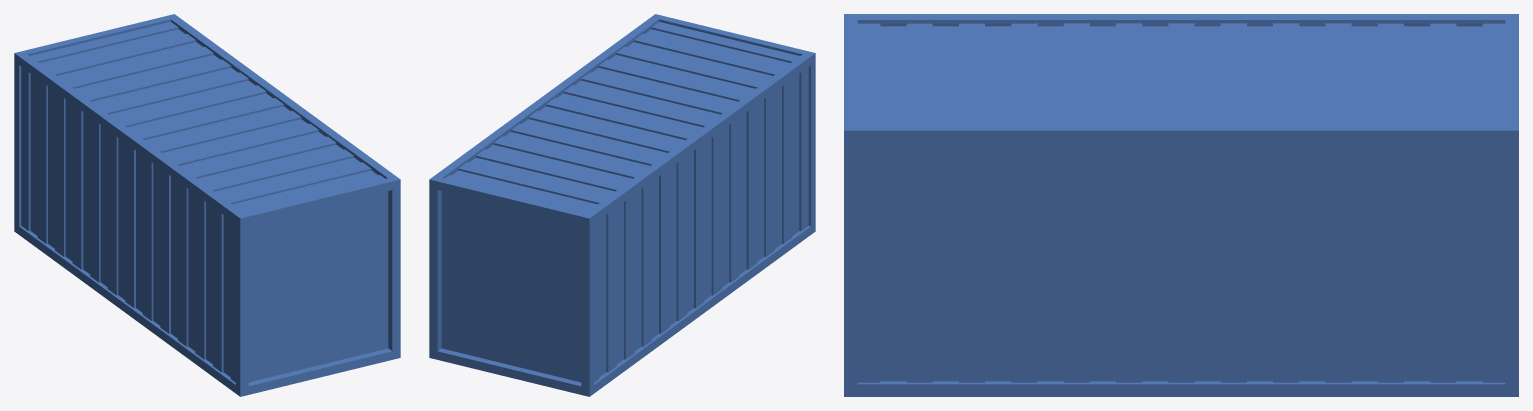
File: Container.fbx
The picture shows the model from 3 angles, left to right: view 1: azimuth 30°, elevation 25°; view 2: azimuth 150°, elevation 25°; view 3: azimuth 270°, elevation 25°; orthographic projection. The views are drawn at different scales.
Parts seen in each view (by area): view 1: Container; view 2: Container; view 3: Container.
Boxes of the visible parts, x1,y1,x2,y2 form: Container: (14, 14, 400, 396); Container: (429, 14, 815, 396); Container: (844, 14, 1518, 396).
Bounding box in the file's own units: 2.5 × 6.11 × 2.66.
